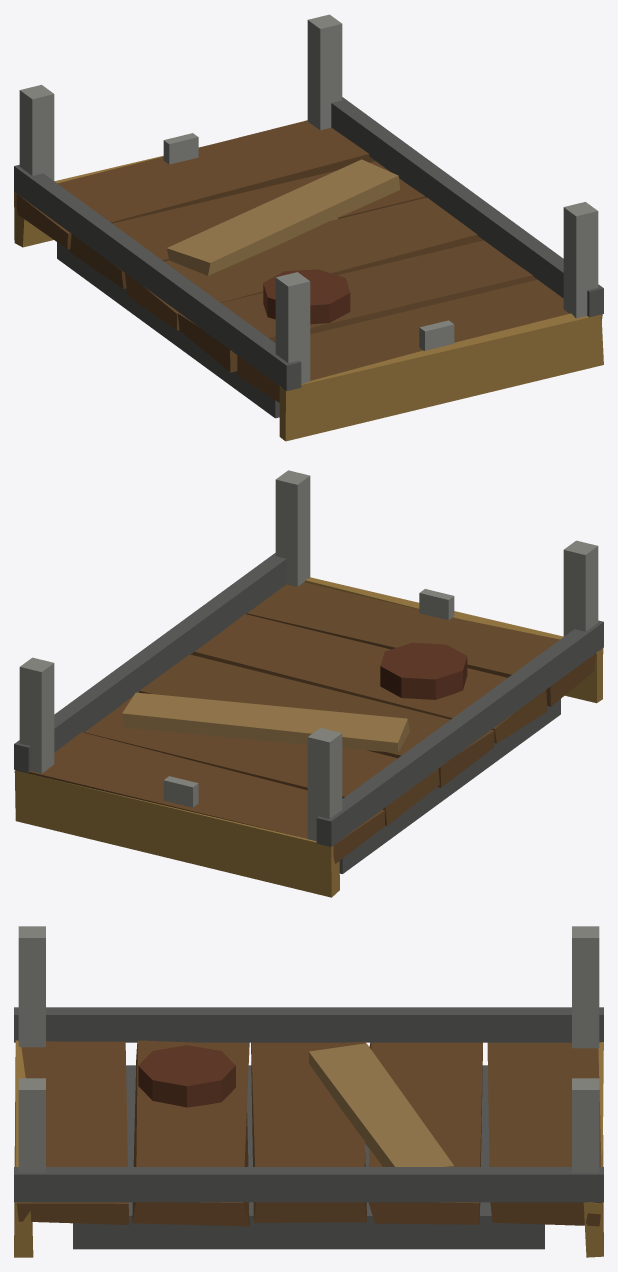
The model's file is cargo_flatbed.glb.
3 renders of one model, top to bottom at view 1: azimuth 30°, elevation 25°; view 2: azimuth 150°, elevation 25°; view 3: azimuth 270°, elevation 25°, orthographic. The views are drawn at different scales.
Visible parts, largest first — view 1: cargo_flatbed; view 2: cargo_flatbed; view 3: cargo_flatbed.
Part boxes in pixels (left/top/right/bottom): cargo_flatbed: left=14, top=14, right=603, bottom=441; cargo_flatbed: left=14, top=470, right=603, bottom=897; cargo_flatbed: left=14, top=926, right=603, bottom=1257.
Size of the model in its own units: 0.65 by 0.3 by 0.968.
